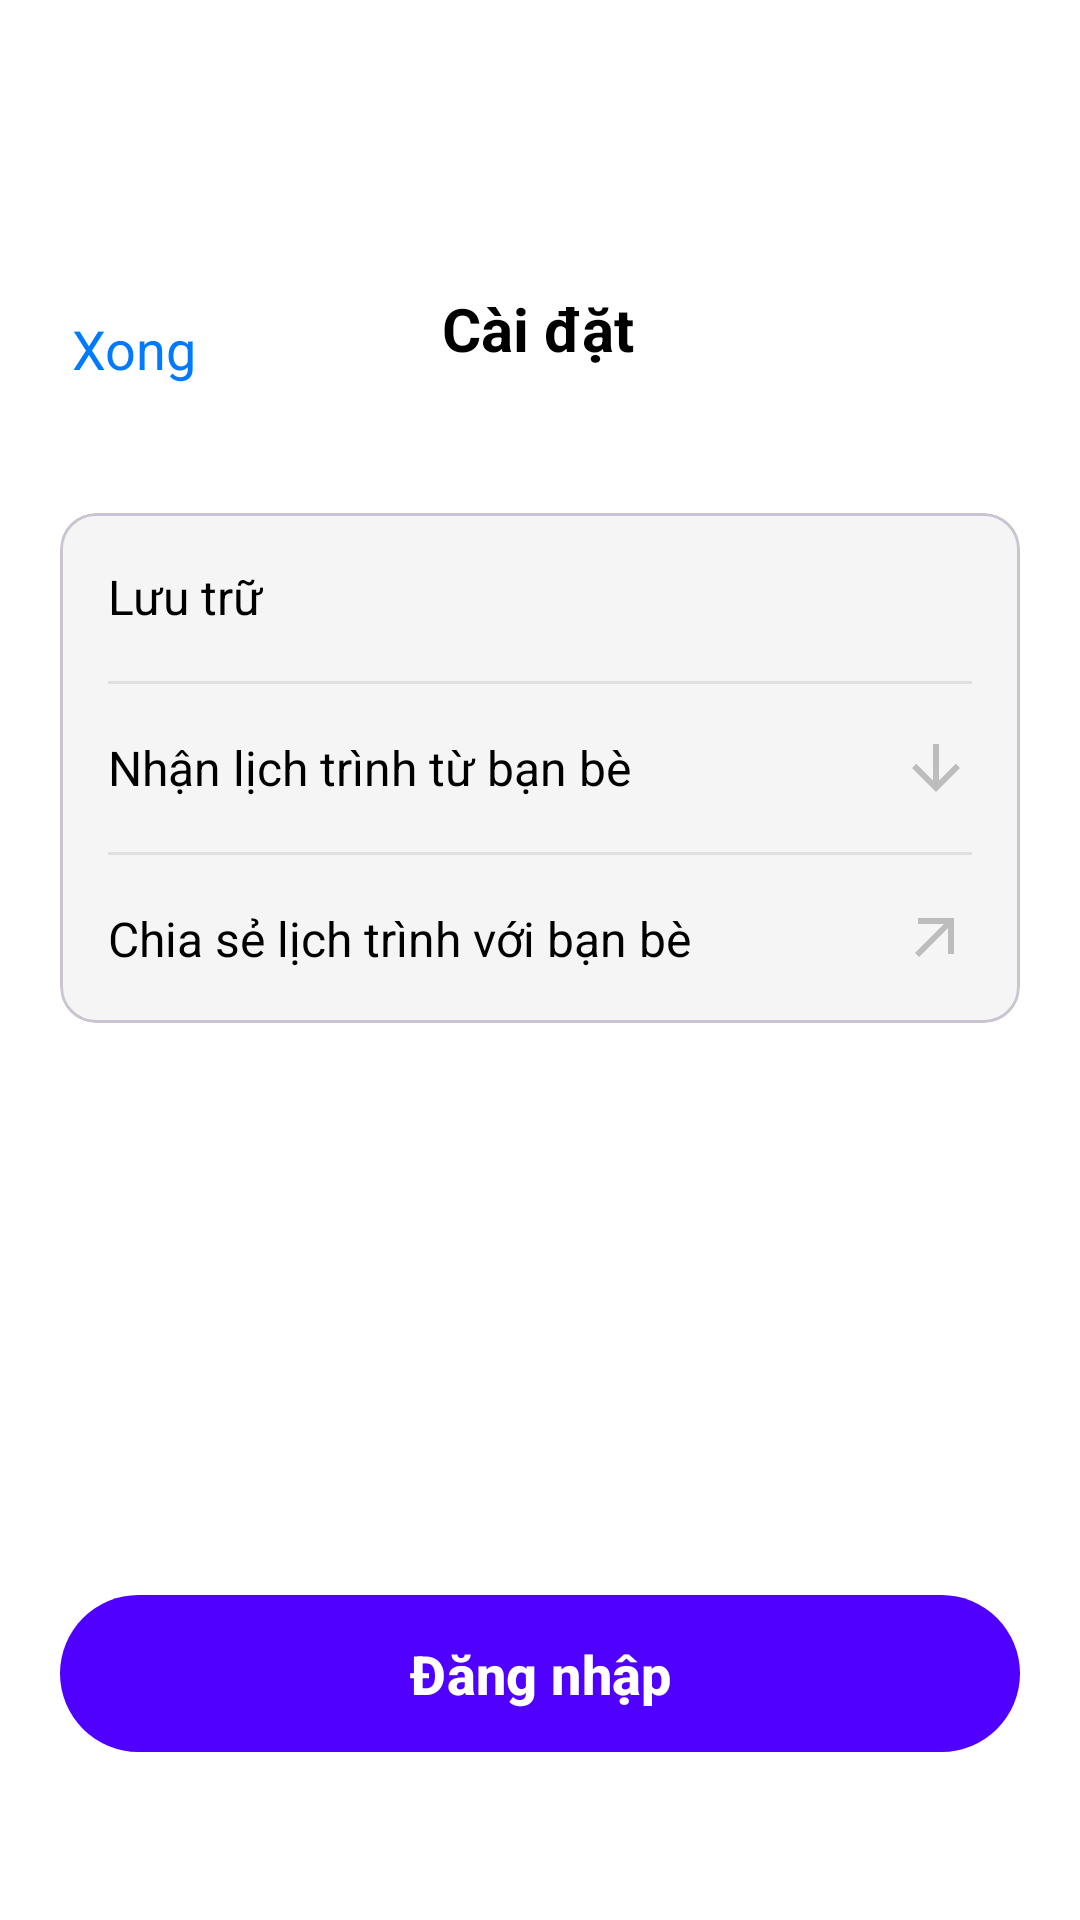

Icon bounding boxes for this 1080w x 1920h phone screenshot, format (x1, y1, x2, y2):
Chia sẻ lịch trình: (915, 918, 954, 957)
Nhận lịch trình: (912, 744, 960, 792)
